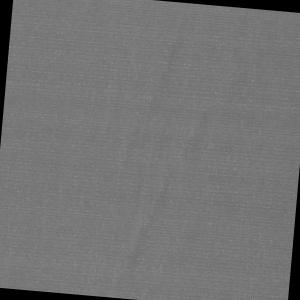Wrinkle: (105, 32, 187, 275)
